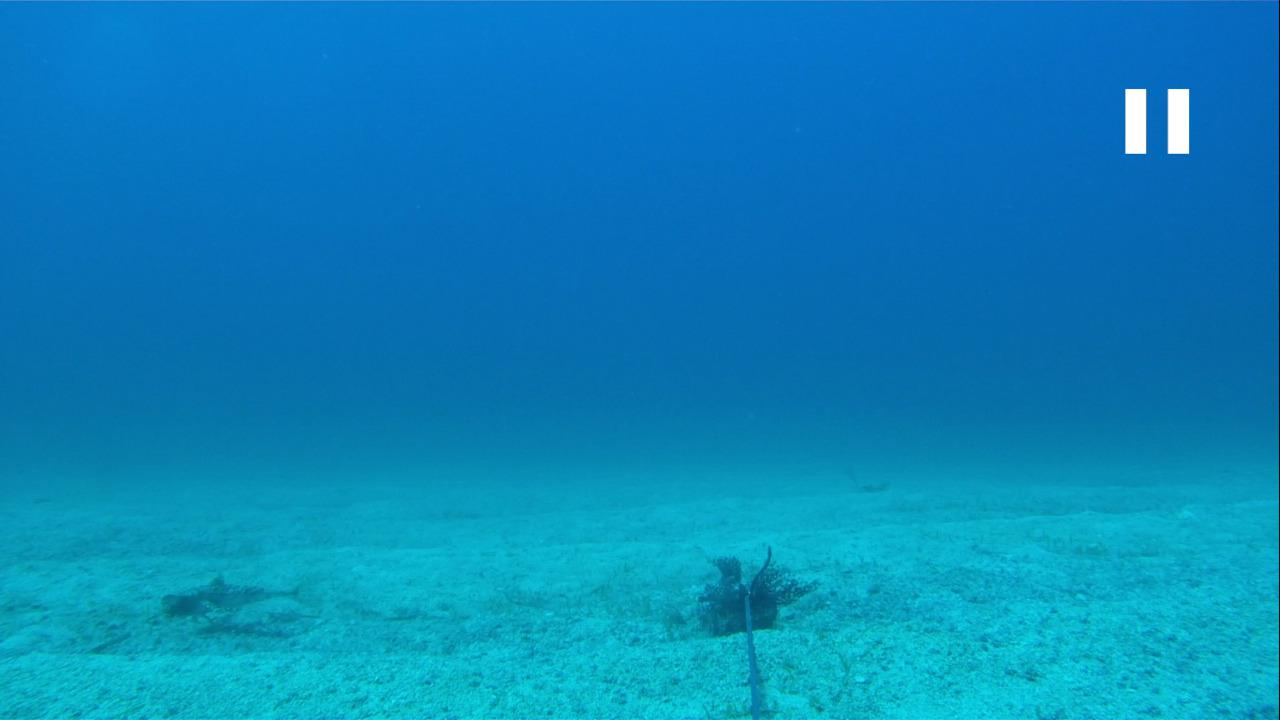dactylopterus: (153, 573, 323, 633)
